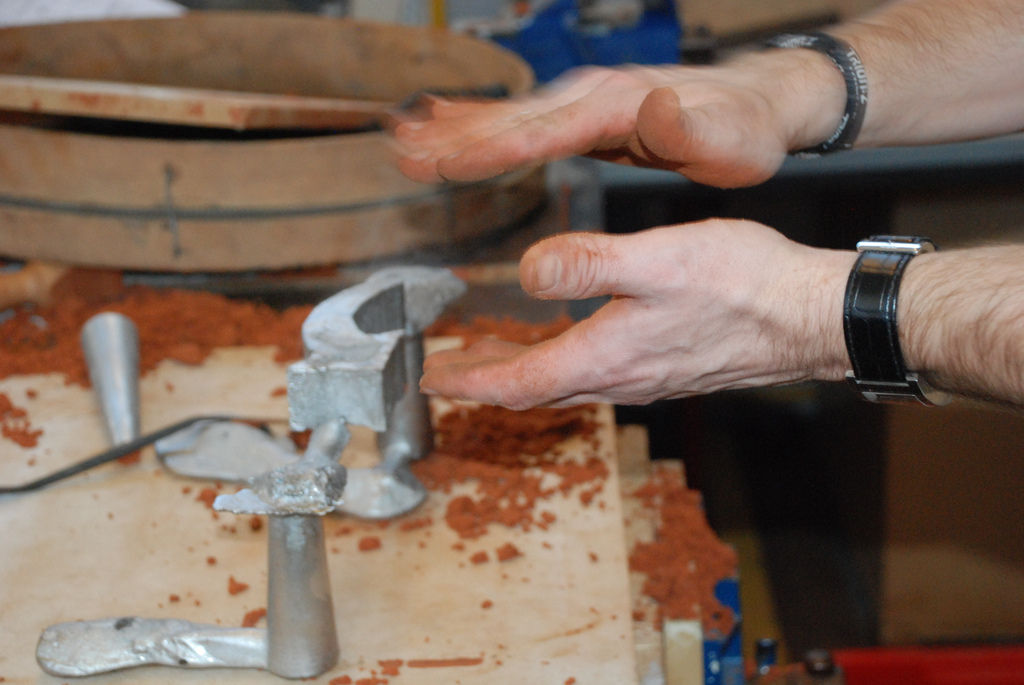watch: (842, 234, 962, 407)
